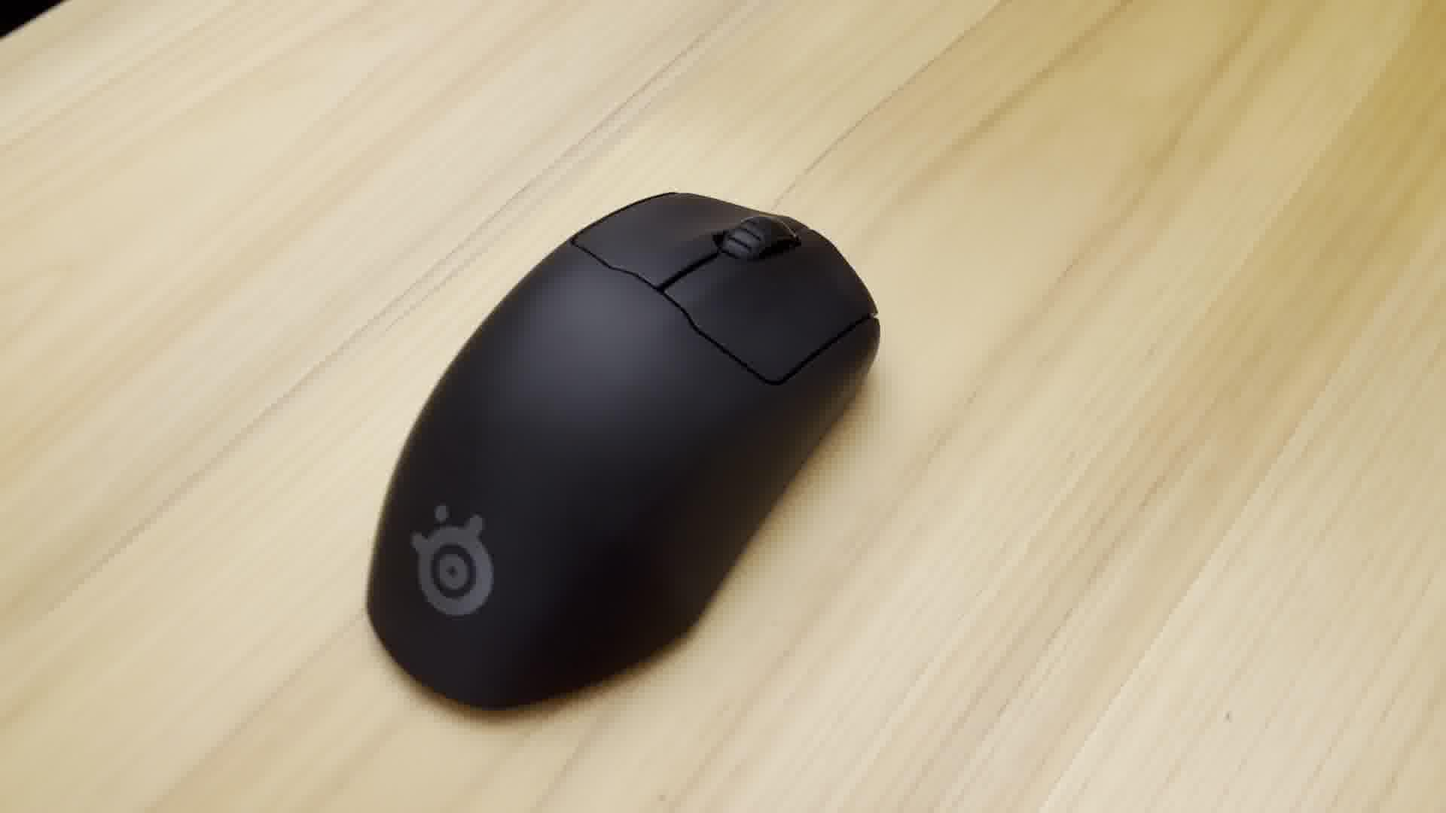mouse: (355, 173, 894, 735)
